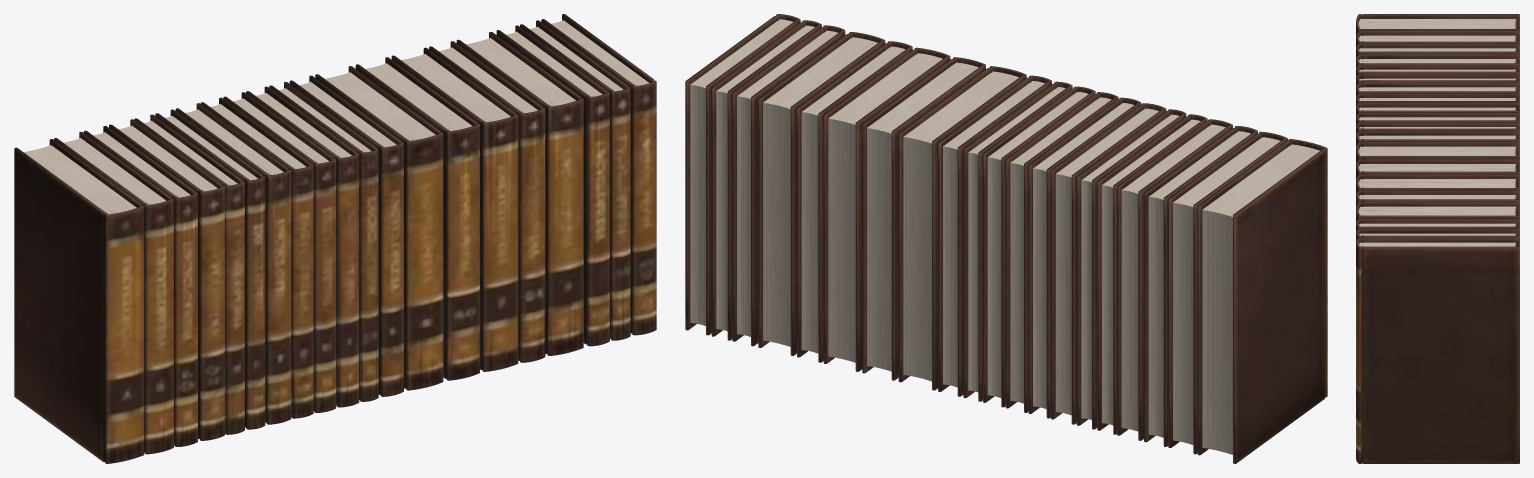
Rendered from book-set-low.glb.
3 views of the same model, side by side, from view 1: azimuth 30°, elevation 25°; view 2: azimuth 150°, elevation 25°; view 3: azimuth 270°, elevation 25° (orthographic). The views are drawn at different scales.
Parts seen in each view (by area): view 1: book_encyclopedia_set_01_book01, book_encyclopedia_set_01_book13, book_encyclopedia_set_01_book15, book_encyclopedia_set_01_book17, book_encyclopedia_set_01_book14, book_encyclopedia_set_01_book02, book_encyclopedia_set_01_book16, book_encyclopedia_set_01_book04, book_encyclopedia_set_01_book18, book_encyclopedia_set_01_book20, book_encyclopedia_set_01_book07, book_encyclopedia_set_01_book12 (+8 smaller); view 2: book_encyclopedia_set_01_book01, book_encyclopedia_set_01_book13, book_encyclopedia_set_01_book15, book_encyclopedia_set_01_book17, book_encyclopedia_set_01_book14, book_encyclopedia_set_01_book02, book_encyclopedia_set_01_book04, book_encyclopedia_set_01_book16, book_encyclopedia_set_01_book18, book_encyclopedia_set_01_book20, book_encyclopedia_set_01_book07, book_encyclopedia_set_01_book12 (+8 smaller); view 3: book_encyclopedia_set_01_book20, book_encyclopedia_set_01_book13, book_encyclopedia_set_01_book01, book_encyclopedia_set_01_book17, book_encyclopedia_set_01_book15, book_encyclopedia_set_01_book14, book_encyclopedia_set_01_book02, book_encyclopedia_set_01_book16, book_encyclopedia_set_01_book03, book_encyclopedia_set_01_book12, book_encyclopedia_set_01_book07, book_encyclopedia_set_01_book04 (+8 smaller).
Boxes of the visible parts, x1,y1,x2,y2 form: book_encyclopedia_set_01_book01: [14, 139, 144, 463]; book_encyclopedia_set_01_book13: [315, 66, 443, 390]; book_encyclopedia_set_01_book15: [391, 47, 518, 371]; book_encyclopedia_set_01_book17: [456, 31, 583, 355]; book_encyclopedia_set_01_book14: [355, 57, 479, 380]; book_encyclopedia_set_01_book02: [54, 132, 173, 454]; book_encyclopedia_set_01_book16: [429, 41, 545, 362]; book_encyclopedia_set_01_book04: [109, 119, 224, 440]; book_encyclopedia_set_01_book18: [496, 25, 609, 346]; book_encyclopedia_set_01_book20: [541, 14, 656, 335]; book_encyclopedia_set_01_book07: [175, 103, 291, 424]; book_encyclopedia_set_01_book12: [289, 75, 403, 396]; book_encyclopedia_set_01_book01: [1197, 139, 1327, 463]; book_encyclopedia_set_01_book13: [898, 66, 1026, 390]; book_encyclopedia_set_01_book15: [823, 47, 950, 371]; book_encyclopedia_set_01_book17: [758, 32, 885, 355]; book_encyclopedia_set_01_book14: [862, 57, 985, 380]; book_encyclopedia_set_01_book02: [1168, 131, 1287, 454]; book_encyclopedia_set_01_book04: [1117, 119, 1232, 440]; book_encyclopedia_set_01_book16: [797, 41, 912, 362]; book_encyclopedia_set_01_book18: [732, 25, 845, 346]; book_encyclopedia_set_01_book20: [685, 14, 800, 335]; book_encyclopedia_set_01_book07: [1051, 103, 1166, 424]; book_encyclopedia_set_01_book12: [938, 75, 1051, 396]; book_encyclopedia_set_01_book20: [1356, 238, 1519, 463]; book_encyclopedia_set_01_book13: [1356, 142, 1519, 162]; book_encyclopedia_set_01_book01: [1356, 14, 1519, 35]; book_encyclopedia_set_01_book17: [1356, 202, 1519, 222]; book_encyclopedia_set_01_book15: [1356, 174, 1519, 194]; book_encyclopedia_set_01_book14: [1356, 159, 1519, 180]; book_encyclopedia_set_01_book02: [1356, 30, 1519, 47]; book_encyclopedia_set_01_book16: [1356, 190, 1519, 208]; book_encyclopedia_set_01_book03: [1356, 43, 1519, 58]; book_encyclopedia_set_01_book12: [1356, 131, 1519, 164]; book_encyclopedia_set_01_book07: [1356, 82, 1519, 96]; book_encyclopedia_set_01_book04: [1356, 54, 1519, 68].
Bounding box in the file's own units: 0.5513 × 0.2374 × 0.1631.
Materials: 2 (2 with a texture image).
